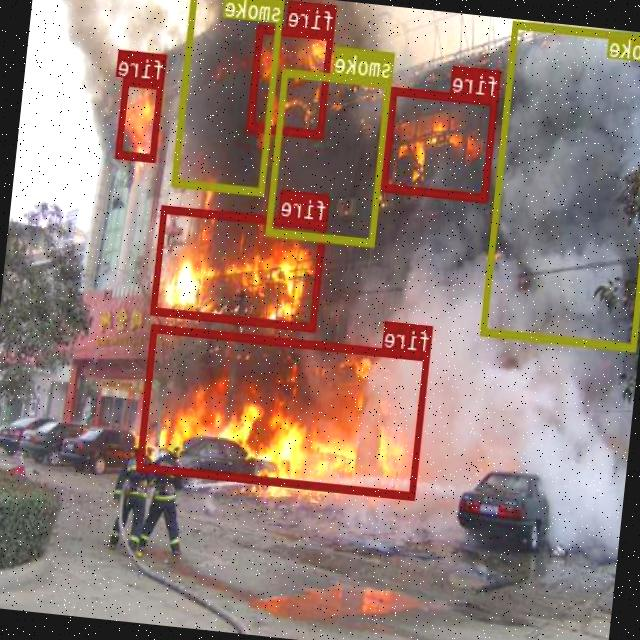fire: (137, 322, 430, 498), (152, 204, 326, 330), (382, 86, 498, 200), (248, 22, 335, 136), (116, 75, 164, 160)
smoke: (481, 20, 640, 350), (266, 68, 392, 246), (172, 0, 284, 193)
